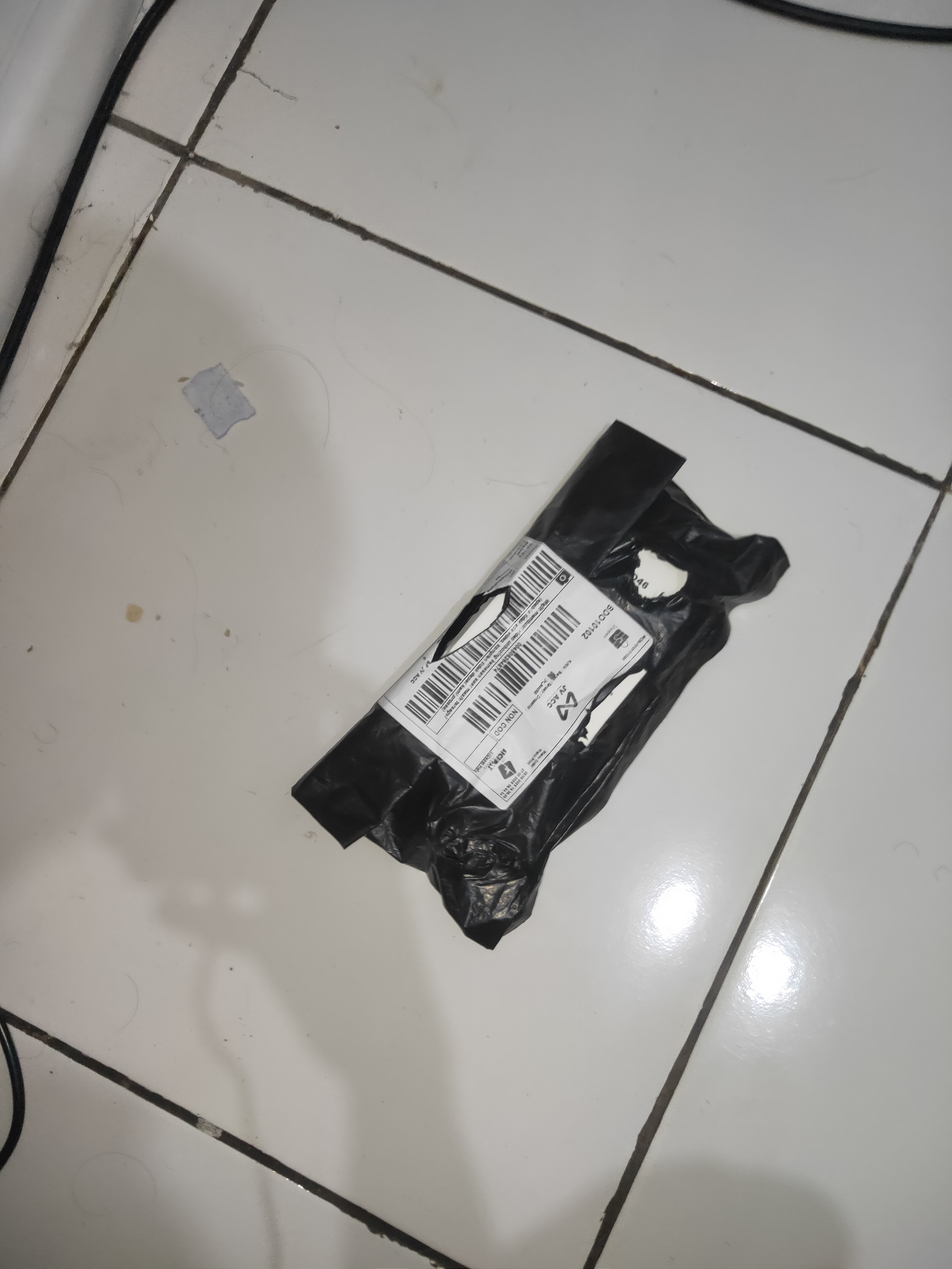damaged package: (573, 669, 648, 757), (429, 587, 514, 660), (623, 536, 697, 607)
undamaged: (291, 423, 791, 953)
